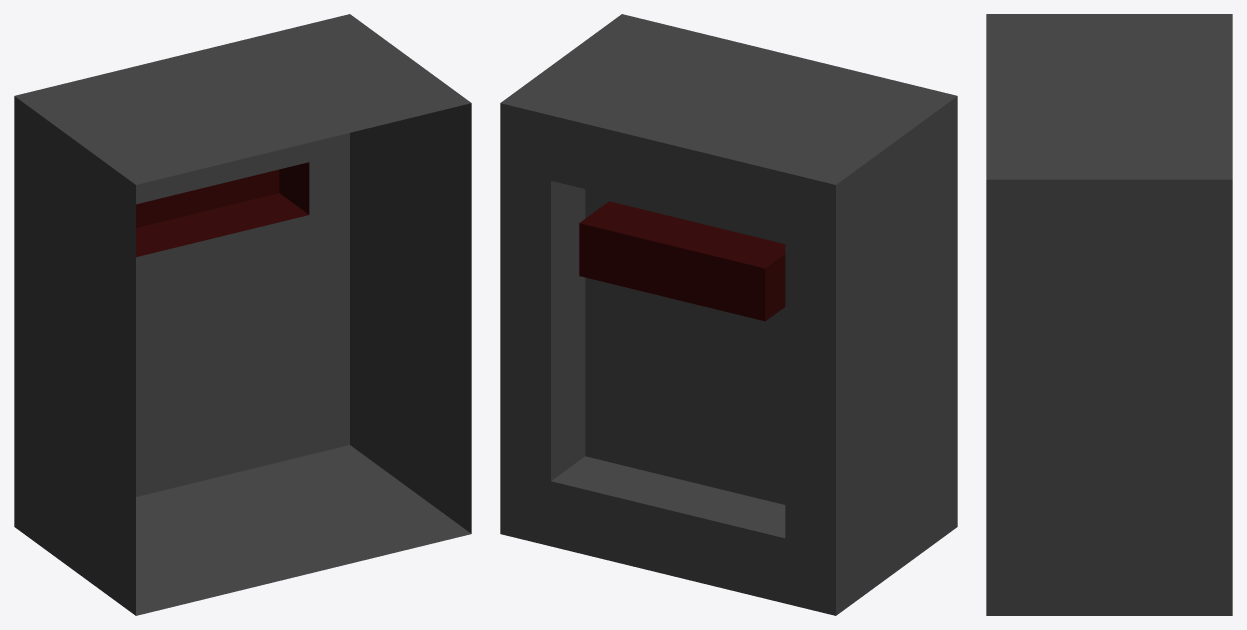
File: SwitchForSquatInteraction.dae
3 views of the same model, side by side, from view 1: azimuth 30°, elevation 25°; view 2: azimuth 150°, elevation 25°; view 3: azimuth 270°, elevation 25° (orthographic).
Parts seen in each view (by area): view 1: Switch; view 2: Switch; view 3: Switch.
Part boxes in pixels (x1,y1,x2,y2): Switch: (14, 14, 471, 615); Switch: (500, 14, 957, 615); Switch: (986, 14, 1232, 615).
Size of the model in its own units: 0.6082 by 0.7459 by 0.382.
